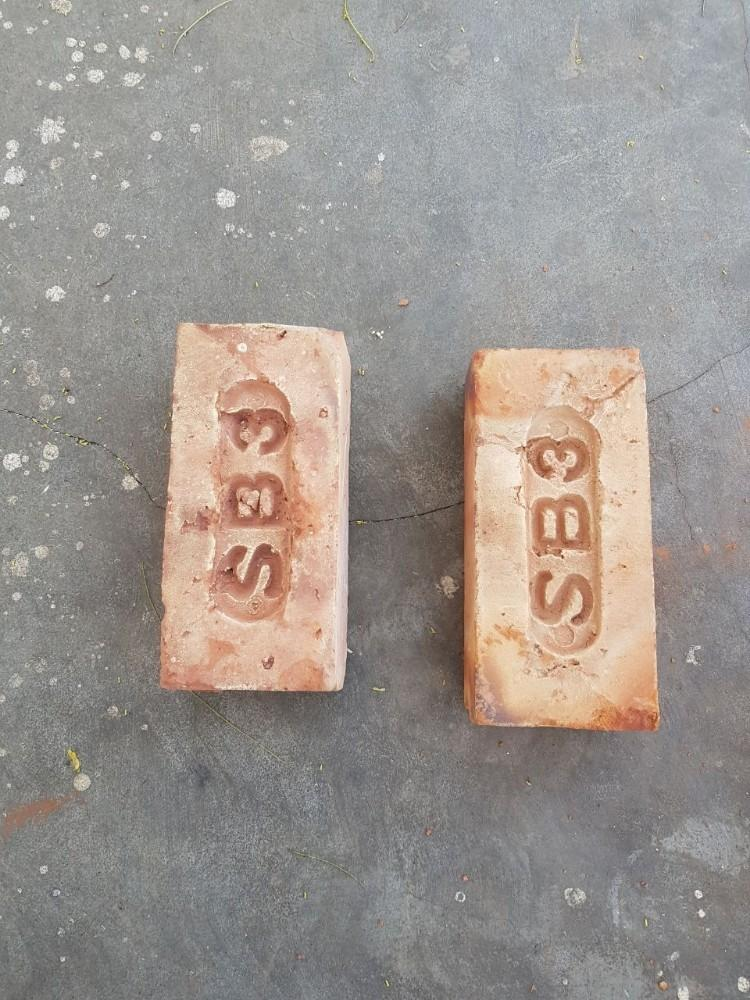brick: (462, 350, 655, 732), (162, 320, 340, 698)
